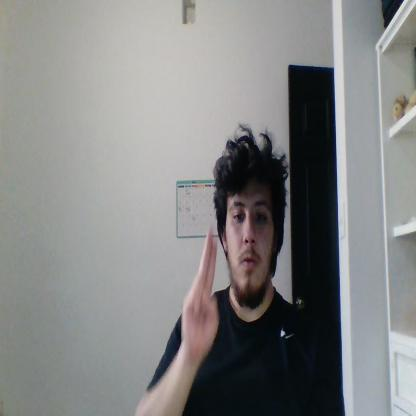U: (182, 227, 218, 357)
